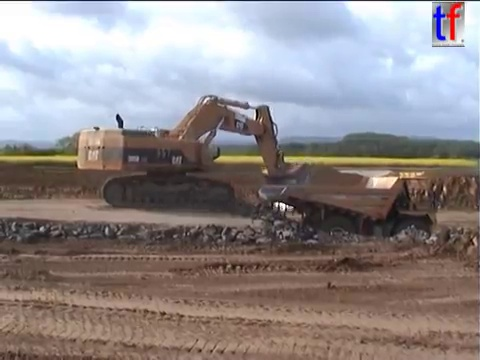excavator: (74, 92, 314, 217)
truck: (255, 168, 441, 256)
